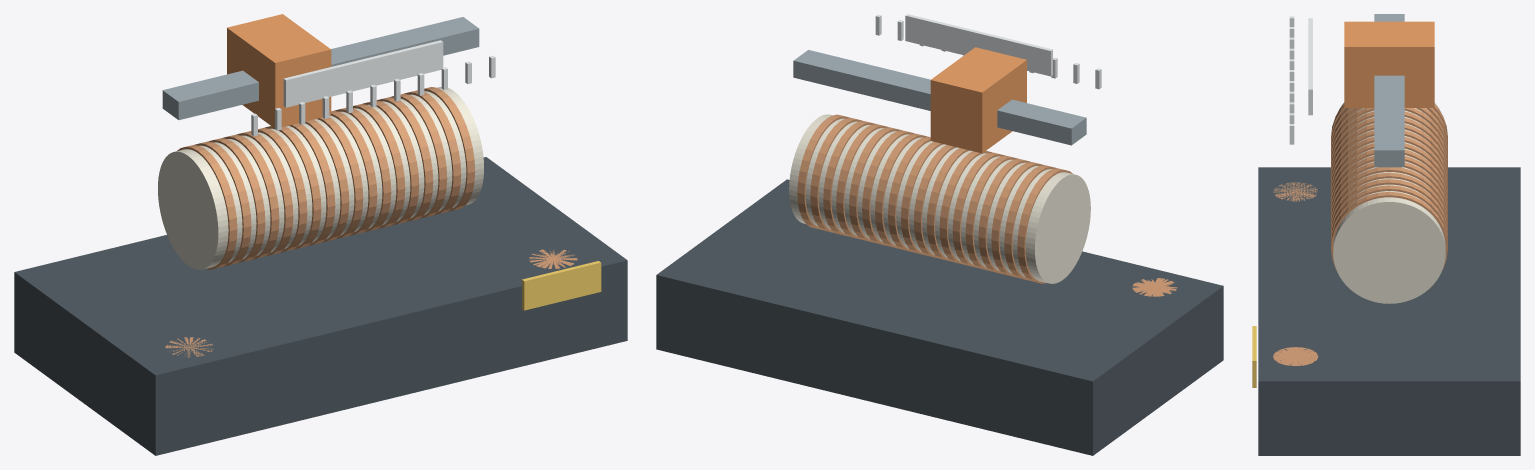
Rendered from rheostat_lod0.glb.
The picture shows the model from 3 angles, left to right: view 1: azimuth 30°, elevation 25°; view 2: azimuth 150°, elevation 25°; view 3: azimuth 270°, elevation 25°; orthographic projection. The views are drawn at different scales.
Parts seen in each view (by area): view 1: RHEO_BASE_MAT_POLYMER_BLACK, RHEO_CORE_MAT_CERAMIC, RHEO_SLIDER_MAT_ORANGE, RHEO_RAIL_MAT_METAL_BRUSHED, RHEO_SCALE_LABEL_MAT_LABEL, RHEO_HOT_LABEL_MAT_WARNING, RHEO_WIRE_0_MAT_METAL_COPPER, RHEO_WIRE_2_MAT_METAL_COPPER, RHEO_WIRE_1_MAT_METAL_COPPER, RHEO_WIRE_3_MAT_METAL_COPPER, RHEO_WIRE_12_MAT_METAL_COPPER, RHEO_WIRE_5_MAT_METAL_COPPER (+12 smaller); view 2: RHEO_BASE_MAT_POLYMER_BLACK, RHEO_CORE_MAT_CERAMIC, RHEO_SLIDER_MAT_ORANGE, RHEO_RAIL_MAT_METAL_BRUSHED, RHEO_SCALE_LABEL_MAT_LABEL, RHEO_WIRE_0_MAT_METAL_COPPER, RHEO_WIRE_16_MAT_METAL_COPPER, RHEO_WIRE_15_MAT_METAL_COPPER, RHEO_WIRE_12_MAT_METAL_COPPER, RHEO_WIRE_13_MAT_METAL_COPPER, RHEO_WIRE_2_MAT_METAL_COPPER, RHEO_WIRE_5_MAT_METAL_COPPER (+12 smaller); view 3: RHEO_BASE_MAT_POLYMER_BLACK, RHEO_CORE_MAT_CERAMIC, RHEO_SLIDER_MAT_ORANGE, RHEO_RAIL_MAT_METAL_BRUSHED, RHEO_WIRE_17_MAT_METAL_COPPER, RHEO_WIRE_14_MAT_METAL_COPPER, RHEO_WIRE_15_MAT_METAL_COPPER, RHEO_WIRE_16_MAT_METAL_COPPER, RHEO_WIRE_13_MAT_METAL_COPPER, RHEO_TERM_0.52_MAT_METAL_COPPER, RHEO_WIRE_6_MAT_METAL_COPPER, RHEO_WIRE_9_MAT_METAL_COPPER (+12 smaller).
Part boxes in pixels (box(x1,y1,x2,y2)): RHEO_BASE_MAT_POLYMER_BLACK: box(14, 157, 627, 455); RHEO_CORE_MAT_CERAMIC: box(158, 87, 483, 269); RHEO_SLIDER_MAT_ORANGE: box(227, 14, 331, 128); RHEO_RAIL_MAT_METAL_BRUSHED: box(162, 17, 479, 119); RHEO_SCALE_LABEL_MAT_LABEL: box(283, 40, 443, 107); RHEO_HOT_LABEL_MAT_WARNING: box(522, 261, 601, 310); RHEO_WIRE_0_MAT_METAL_COPPER: box(177, 145, 237, 269); RHEO_WIRE_2_MAT_METAL_COPPER: box(208, 138, 265, 262); RHEO_WIRE_1_MAT_METAL_COPPER: box(194, 141, 251, 266); RHEO_WIRE_3_MAT_METAL_COPPER: box(223, 134, 279, 259); RHEO_WIRE_12_MAT_METAL_COPPER: box(353, 104, 405, 228); RHEO_WIRE_5_MAT_METAL_COPPER: box(250, 128, 307, 252); RHEO_BASE_MAT_POLYMER_BLACK: box(656, 179, 1223, 455); RHEO_CORE_MAT_CERAMIC: box(789, 114, 1090, 283); RHEO_SLIDER_MAT_ORANGE: box(930, 47, 1026, 153); RHEO_RAIL_MAT_METAL_BRUSHED: box(793, 50, 1086, 145); RHEO_SCALE_LABEL_MAT_LABEL: box(905, 14, 1052, 76); RHEO_WIRE_0_MAT_METAL_COPPER: box(1017, 168, 1072, 283); RHEO_WIRE_16_MAT_METAL_COPPER: box(810, 117, 862, 233); RHEO_WIRE_15_MAT_METAL_COPPER: box(823, 121, 875, 236); RHEO_WIRE_12_MAT_METAL_COPPER: box(862, 130, 914, 245); RHEO_WIRE_13_MAT_METAL_COPPER: box(849, 127, 901, 242); RHEO_WIRE_2_MAT_METAL_COPPER: box(991, 162, 1043, 277); RHEO_WIRE_5_MAT_METAL_COPPER: box(952, 152, 1004, 267); RHEO_BASE_MAT_POLYMER_BLACK: box(1258, 167, 1520, 455); RHEO_CORE_MAT_CERAMIC: box(1333, 102, 1445, 303); RHEO_SLIDER_MAT_ORANGE: box(1344, 21, 1434, 107); RHEO_RAIL_MAT_METAL_BRUSHED: box(1374, 14, 1404, 167); RHEO_WIRE_17_MAT_METAL_COPPER: box(1331, 191, 1447, 270); RHEO_WIRE_14_MAT_METAL_COPPER: box(1331, 172, 1447, 229); RHEO_WIRE_15_MAT_METAL_COPPER: box(1331, 179, 1447, 236); RHEO_WIRE_16_MAT_METAL_COPPER: box(1331, 185, 1447, 242); RHEO_WIRE_13_MAT_METAL_COPPER: box(1331, 167, 1447, 223); RHEO_TERM_0.52_MAT_METAL_COPPER: box(1273, 347, 1318, 365); RHEO_WIRE_6_MAT_METAL_COPPER: box(1331, 124, 1447, 179); RHEO_WIRE_9_MAT_METAL_COPPER: box(1331, 143, 1447, 198).
Bounding box in the file's own units: 1.35 × 0.87 × 0.716.
